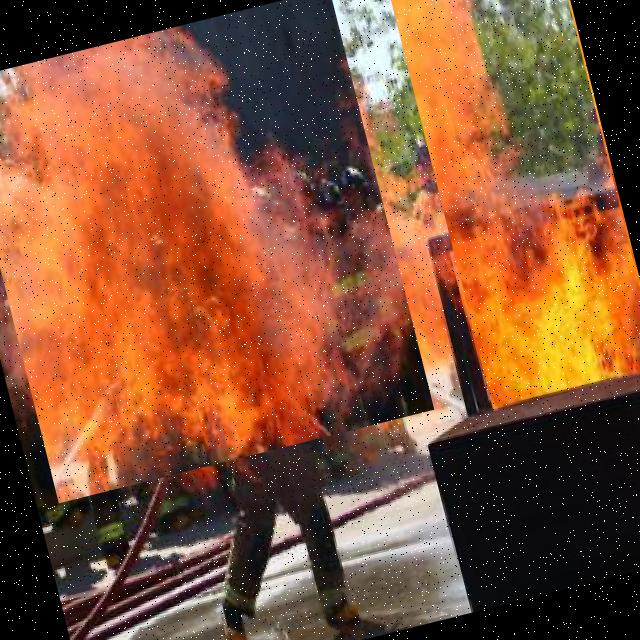fire: (0, 0, 433, 503), (384, 0, 640, 410)
